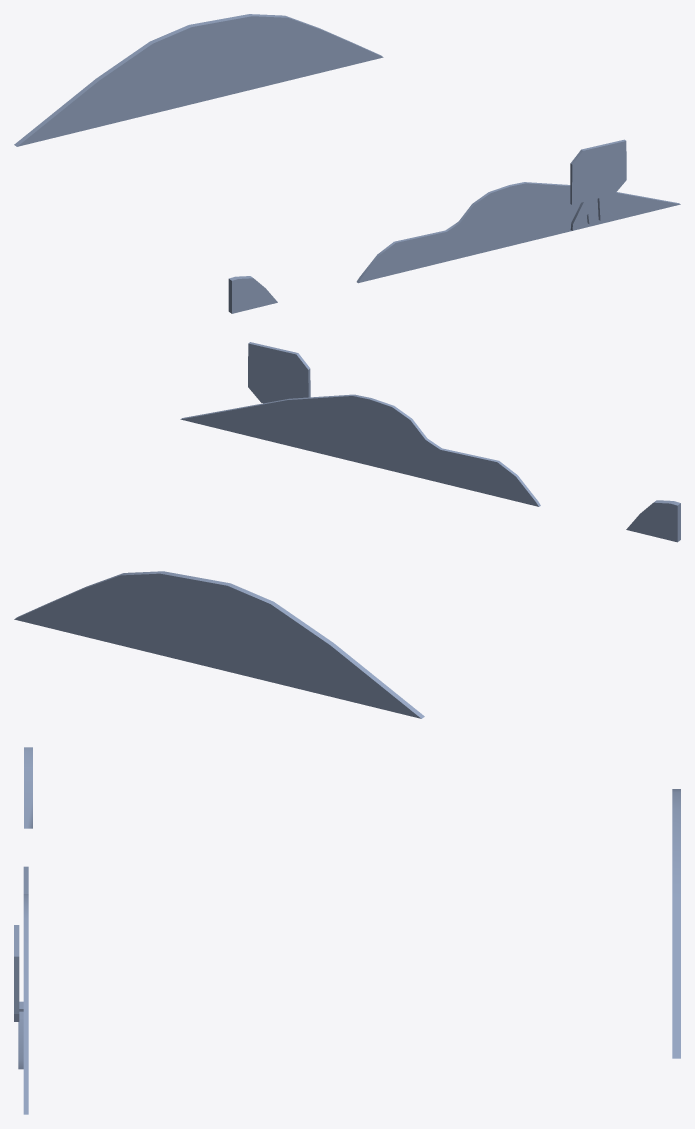
File: frame_0083.glb
3 renders of one model, top to bottom at view 1: azimuth 30°, elevation 25°; view 2: azimuth 150°, elevation 25°; view 3: azimuth 270°, elevation 25°, orthographic. The views are drawn at different scales.
Visible parts, largest first — view 1: export_trees_001.002; view 2: export_trees_001.002; view 3: export_trees_001.002.
Boxes of the visible parts, <box> form: export_trees_001.002: <box>14,14,680,313</box>; export_trees_001.002: <box>14,342,680,718</box>; export_trees_001.002: <box>14,747,680,1114</box>.
Bounding box in the file's own units: 0.3619 × 0.0622 × 0.3198.
